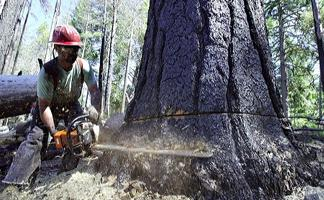person: (1, 24, 101, 200)
